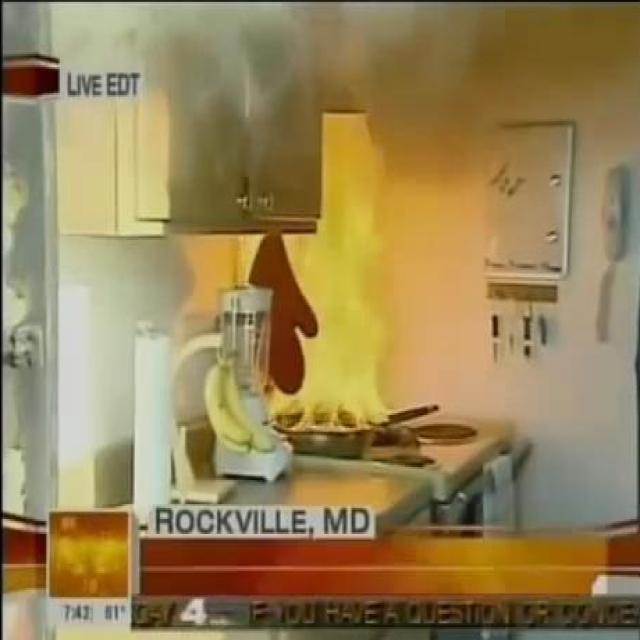fire: (3, 2, 316, 172), (326, 2, 490, 102)
smoke: (258, 168, 390, 432)
